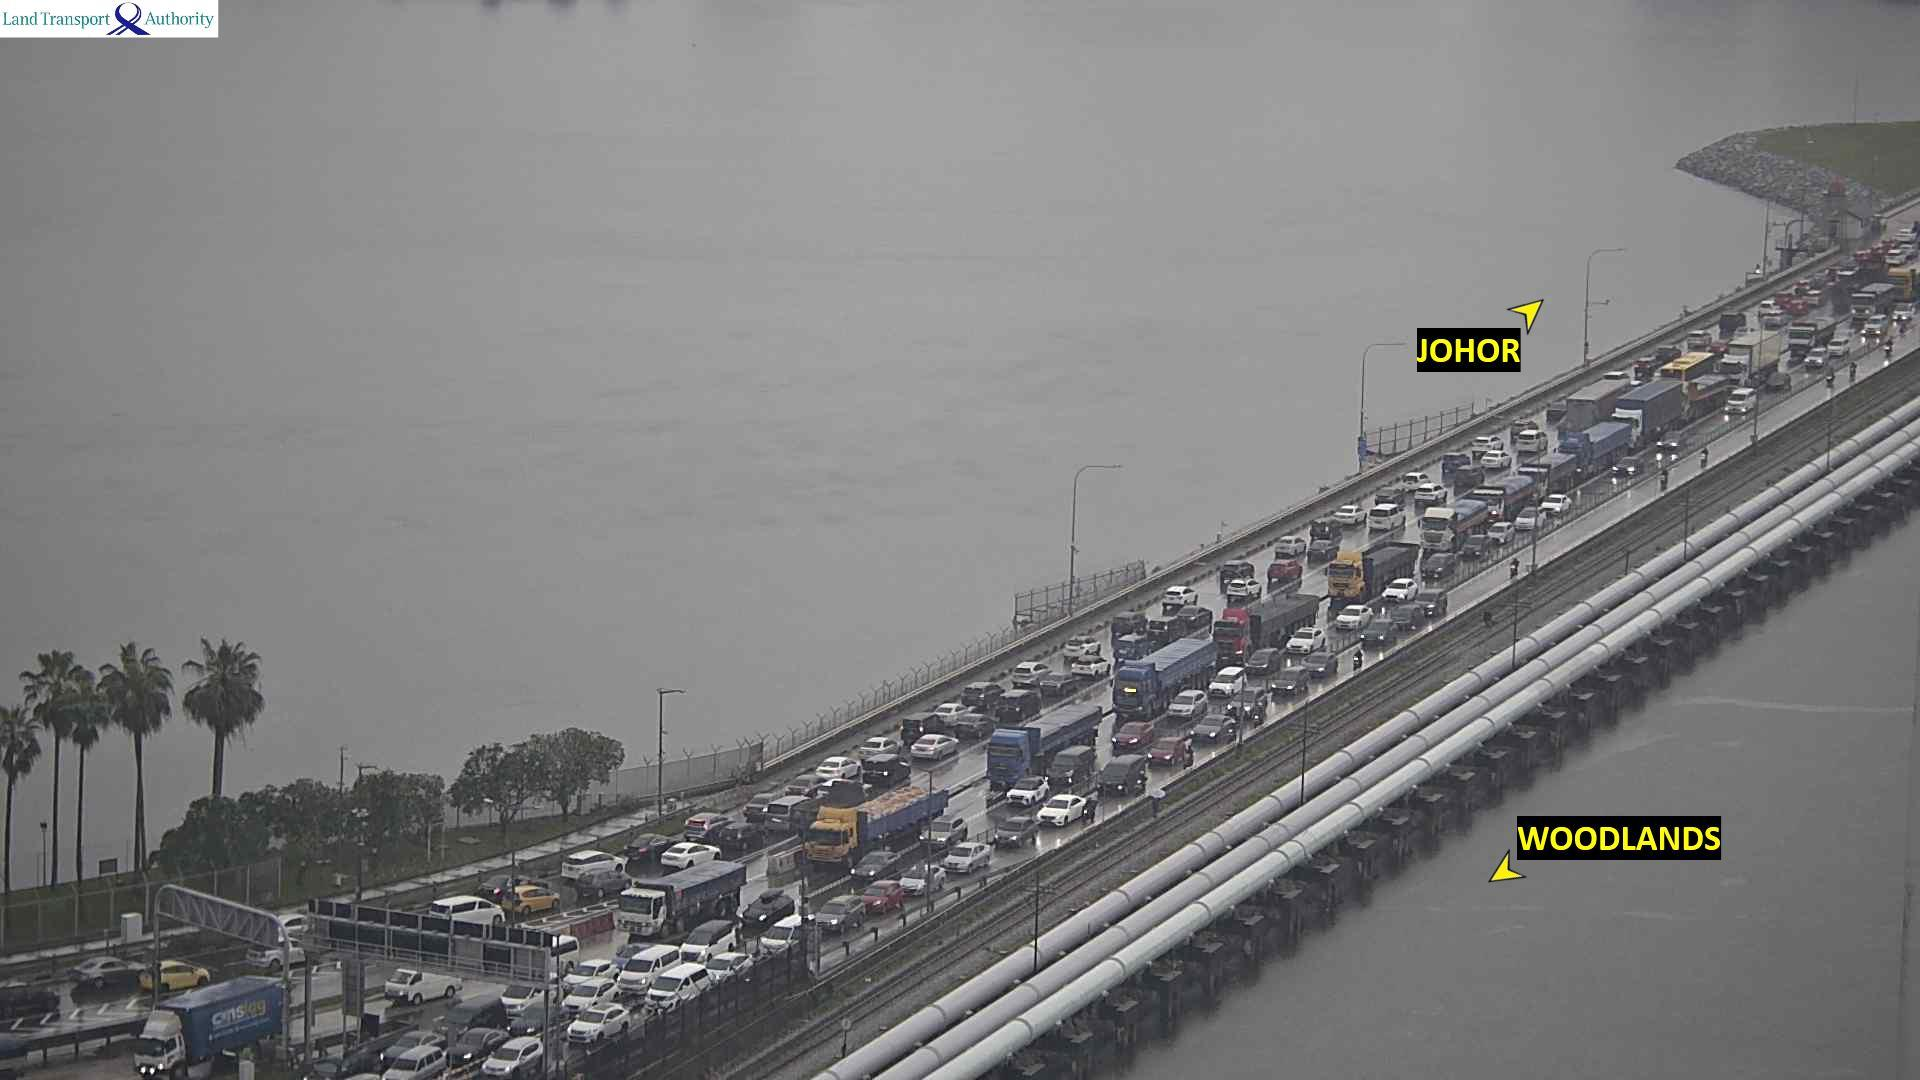vehicle-causeway-johor: (1566, 380, 1631, 428), (0, 975, 60, 1022), (67, 958, 145, 992), (431, 896, 506, 926), (138, 960, 211, 990), (247, 937, 305, 969), (560, 850, 624, 877), (577, 869, 633, 898), (683, 812, 736, 841), (766, 797, 810, 831), (864, 755, 912, 786), (1661, 352, 1712, 380), (502, 886, 560, 910), (995, 691, 1041, 721), (624, 833, 677, 859), (478, 875, 548, 894), (902, 714, 943, 744), (661, 843, 721, 863), (912, 735, 960, 758), (720, 824, 769, 846), (1368, 504, 1406, 532), (742, 793, 784, 818), (816, 756, 862, 778), (962, 682, 1005, 705), (1012, 661, 1053, 684), (1063, 636, 1100, 660), (1113, 611, 1149, 634), (1267, 560, 1303, 583), (1072, 657, 1111, 678), (1162, 586, 1198, 608), (1220, 559, 1256, 581), (955, 716, 994, 736), (1310, 519, 1343, 542), (1415, 484, 1448, 507), (856, 737, 900, 754), (935, 703, 969, 724), (1516, 431, 1547, 454), (1453, 466, 1485, 488), (1472, 435, 1504, 457), (1042, 674, 1075, 695), (785, 777, 823, 795), (1228, 579, 1262, 599), (1273, 536, 1306, 556), (1510, 416, 1540, 438), (1334, 505, 1367, 524), (278, 913, 304, 937), (1441, 453, 1470, 474), (1308, 541, 1339, 560), (1481, 451, 1512, 468), (1374, 487, 1404, 504), (1402, 472, 1430, 489), (1687, 330, 1712, 348)
vehicle-causeway-singapore: (133, 976, 285, 1079), (808, 787, 948, 866), (986, 706, 1102, 792), (619, 864, 745, 941), (1113, 639, 1215, 720), (1214, 594, 1318, 658), (1329, 543, 1418, 604), (1612, 383, 1683, 450), (1556, 423, 1631, 480), (1719, 333, 1779, 391), (1421, 499, 1487, 550), (617, 945, 680, 993), (384, 967, 463, 1005), (645, 965, 706, 1014), (434, 996, 505, 1038), (480, 1036, 543, 1080), (1473, 475, 1533, 521), (567, 1003, 631, 1044), (1518, 453, 1576, 494), (382, 1045, 446, 1080), (679, 921, 735, 960), (558, 979, 618, 1015), (741, 890, 795, 926), (1097, 755, 1145, 794), (1788, 318, 1835, 357), (816, 896, 866, 932), (1850, 284, 1893, 321), (850, 851, 904, 880), (1036, 794, 1086, 824), (943, 842, 992, 872), (920, 818, 968, 848), (993, 817, 1038, 848), (898, 867, 945, 895), (1112, 722, 1152, 754), (862, 881, 904, 911), (1226, 688, 1265, 718), (1270, 667, 1310, 696), (1208, 666, 1248, 695), (1167, 690, 1206, 719), (1191, 717, 1236, 742), (1286, 627, 1327, 654), (1387, 606, 1424, 634), (1336, 605, 1374, 631), (552, 936, 578, 973), (1362, 620, 1395, 648), (1247, 648, 1280, 675), (1415, 589, 1447, 615), (1304, 654, 1338, 678), (1381, 579, 1417, 601), (1725, 390, 1757, 413), (1542, 494, 1573, 516), (1517, 507, 1545, 530), (1488, 523, 1515, 542), (1864, 315, 1888, 334), (1080, 798, 1097, 823), (1805, 347, 1825, 367), (1828, 340, 1848, 356), (1656, 468, 1669, 491), (1894, 305, 1913, 319), (1509, 557, 1520, 579), (1353, 649, 1363, 671), (1825, 366, 1834, 386), (1884, 339, 1893, 358), (1700, 447, 1708, 467), (1849, 362, 1857, 380)
